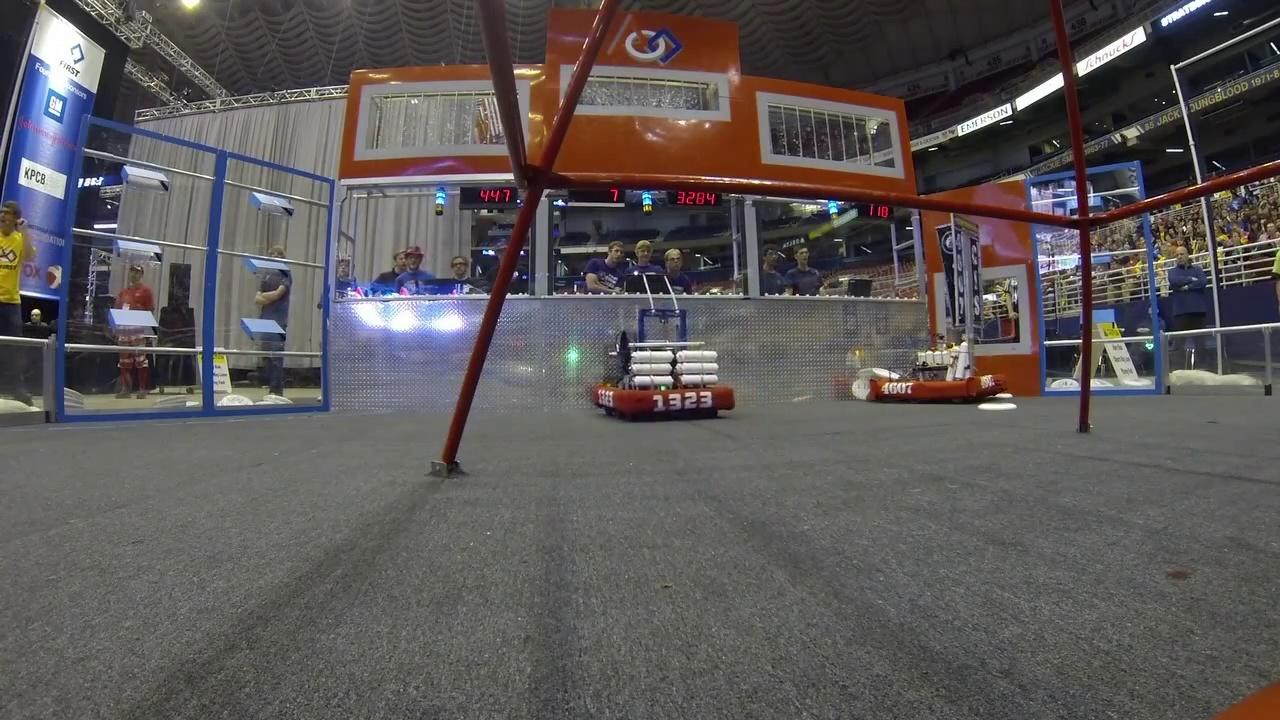robot: (862, 214, 1011, 406), (589, 306, 736, 426)
